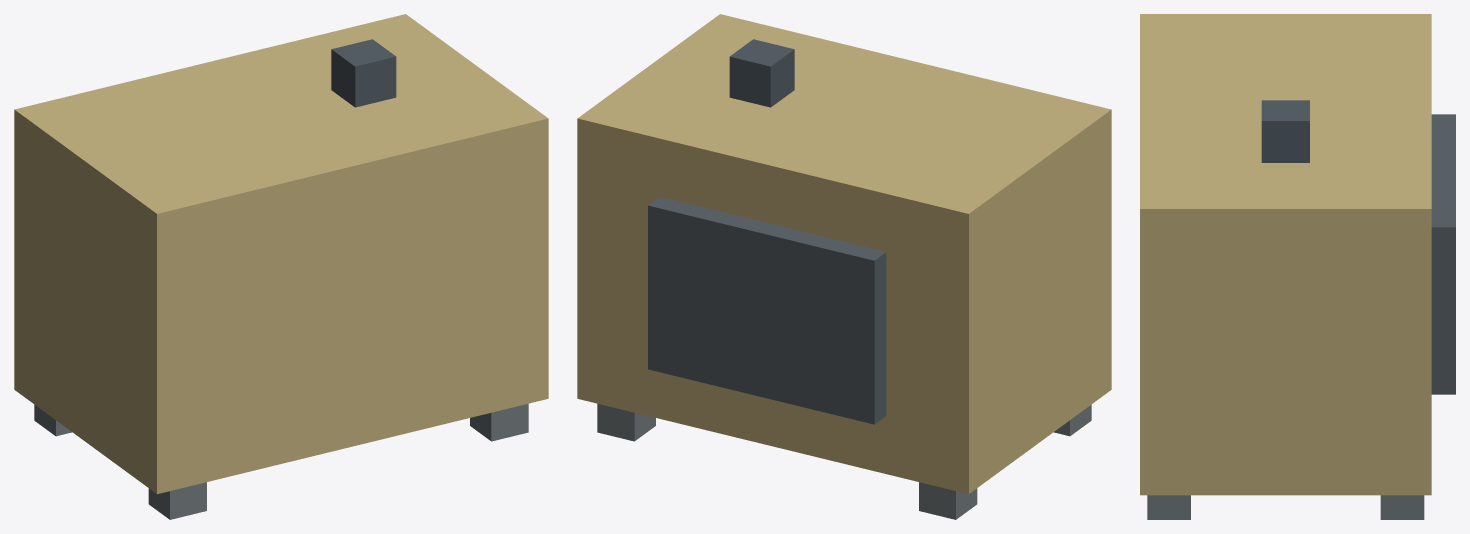
File: generator.glb
3 views of the same model, side by side, from view 1: azimuth 30°, elevation 25°; view 2: azimuth 150°, elevation 25°; view 3: azimuth 270°, elevation 25° (orthographic). The views are drawn at different scales.
Visible parts, largest first — view 1: body; view 2: body; view 3: body.
Part boxes in pixels (bbox=[...]): body: bbox=[14, 14, 548, 519]; body: bbox=[577, 14, 1111, 519]; body: bbox=[1140, 14, 1455, 519].
Size of the model in its own units: 0.95 by 0.82 by 0.65.
